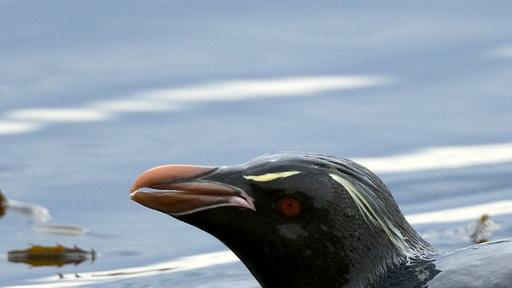Southern Rockhopper Penguin: (98, 142, 512, 288)
